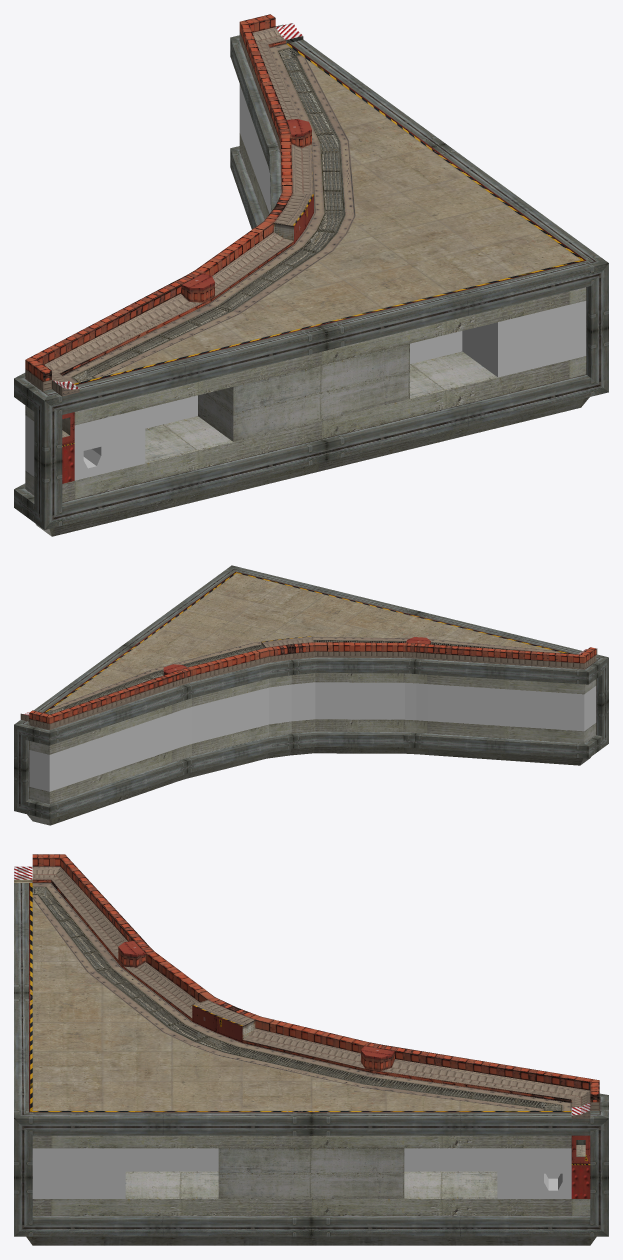
The model's file is WTP_H_RoundConcave_L.fbx.
3 views of the same model, one above another, from view 1: azimuth 30°, elevation 25°; view 2: azimuth 150°, elevation 25°; view 3: azimuth 270°, elevation 25° (orthographic). The views are drawn at different scales.
Parts seen in each view (by area): view 1: WTP_H_RoundConcave_L_Lod0; view 2: WTP_H_RoundConcave_L_Lod0; view 3: WTP_H_RoundConcave_L_Lod0.
Boxes of the visible parts, x1,y1,x2,y2 form: WTP_H_RoundConcave_L_Lod0: (14, 14, 608, 536); WTP_H_RoundConcave_L_Lod0: (14, 565, 608, 825); WTP_H_RoundConcave_L_Lod0: (14, 854, 608, 1245).
Size of the model in its own units: 32 by 9 by 32.
